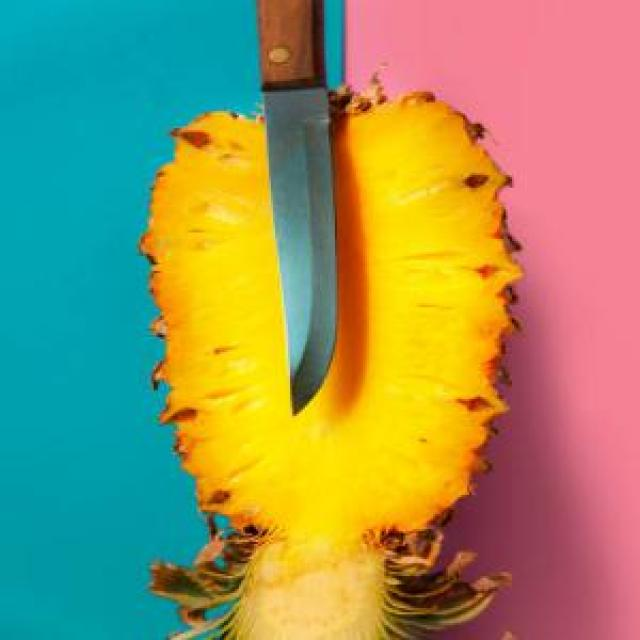knife: (253, 0, 339, 420)
